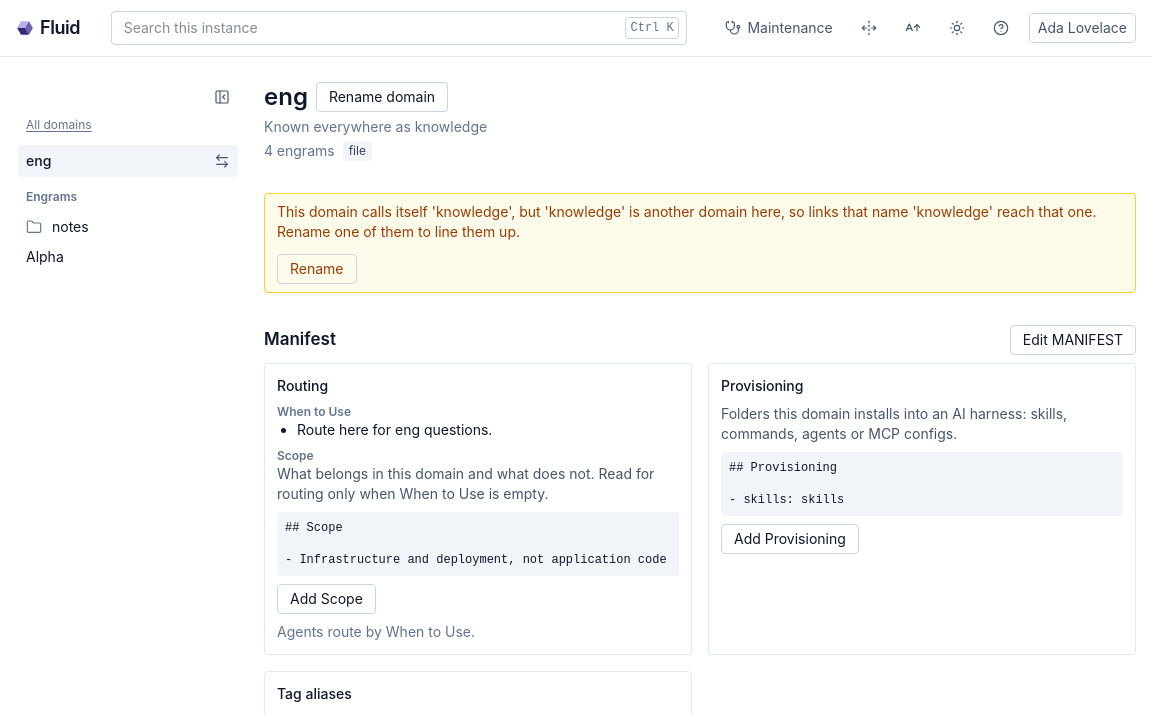
Test: the domain's declared name › opens the rename dialog from the shadowed banner's own action
Click the button "Rename".
click(317, 269)  # box x1=277 y1=254 x2=356 y2=284
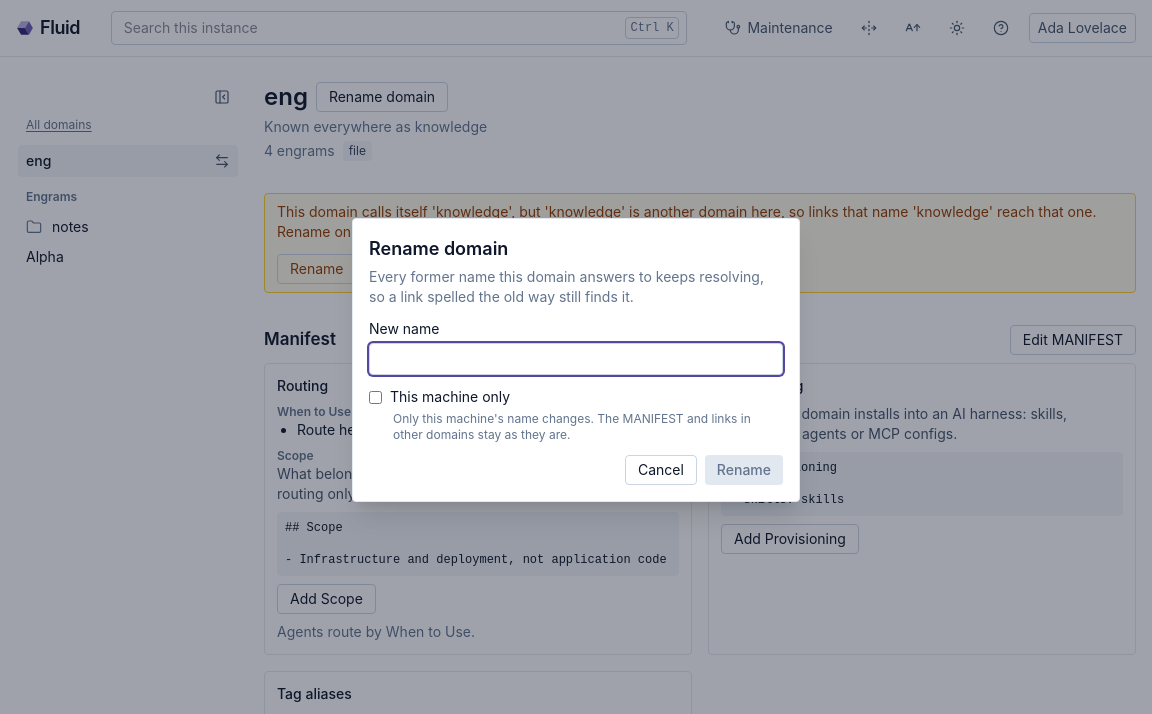
Result: the dialog "Rename domain" is shown at x1=352 y1=218 x2=800 y2=502
